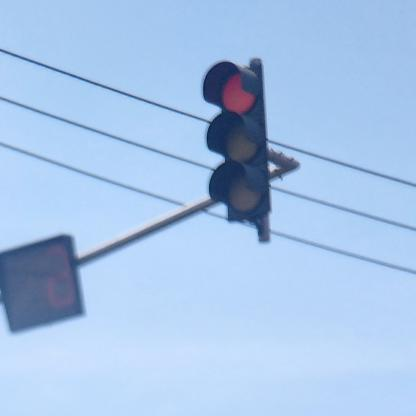red: (201, 60, 273, 222)
